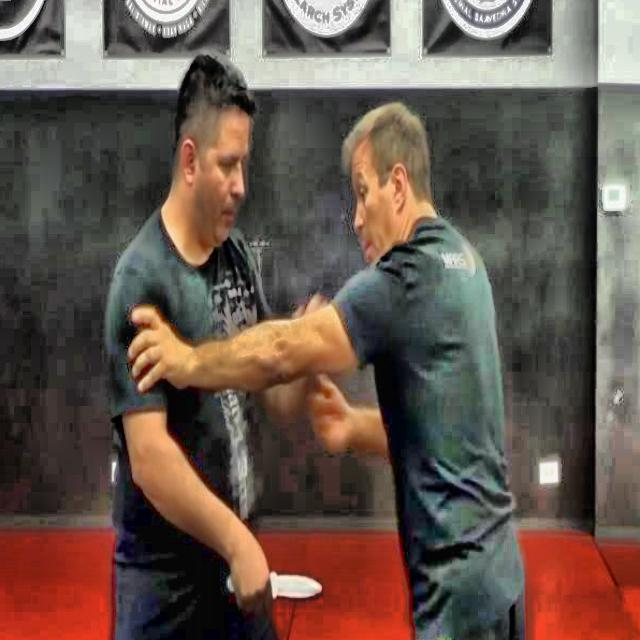knife: (229, 574, 325, 599)
